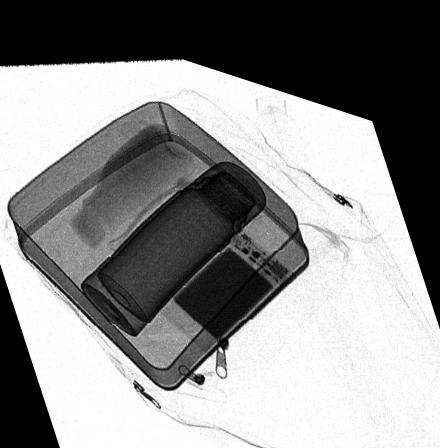Powerbank: (161, 215, 295, 346)
